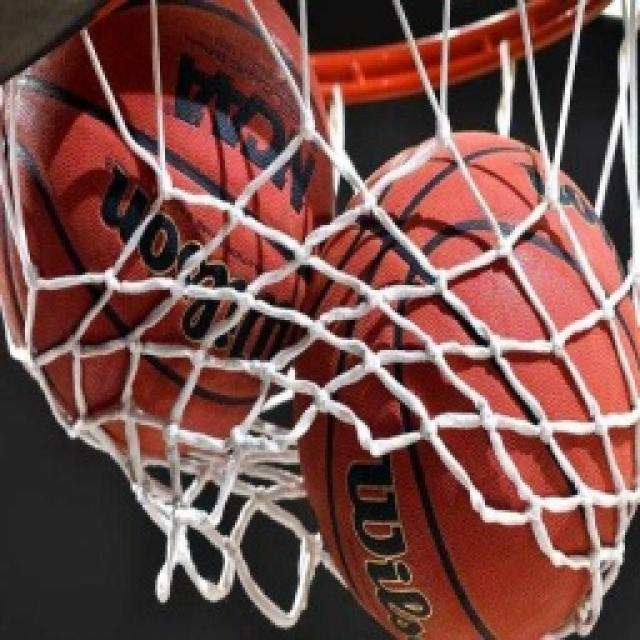rim: (294, 127, 640, 640), (1, 0, 332, 461)
